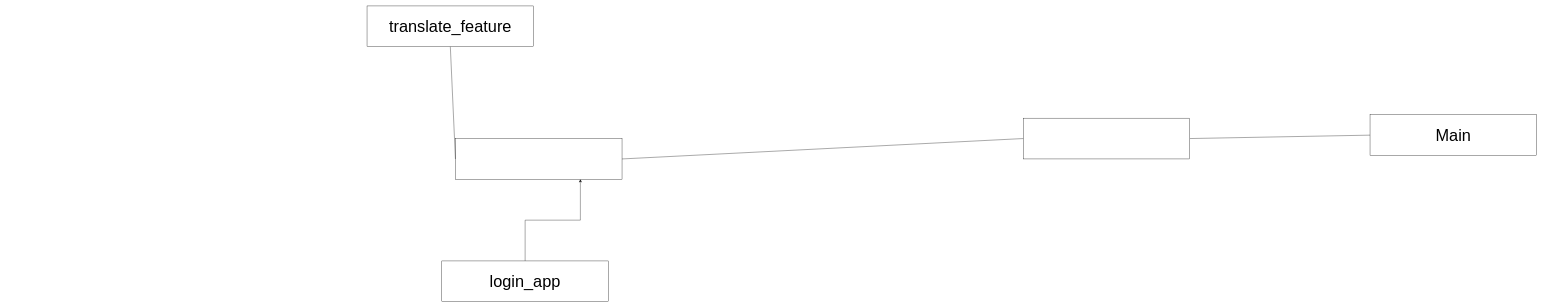
Some shapes in this 1543 by 308 pixel diagram are drawn without their labels. Each missing label, with the centre of its shape:
"Development" belongs at (x=1106, y=138).
"truckerForms" belongs at (x=538, y=158).
